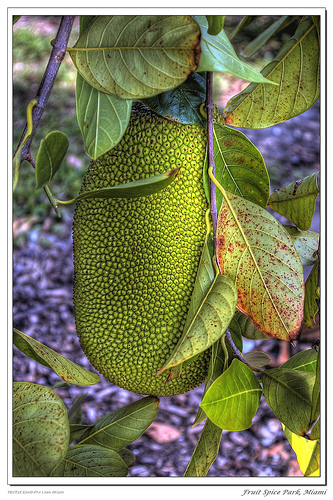jackfruit: (70, 111, 214, 397)
